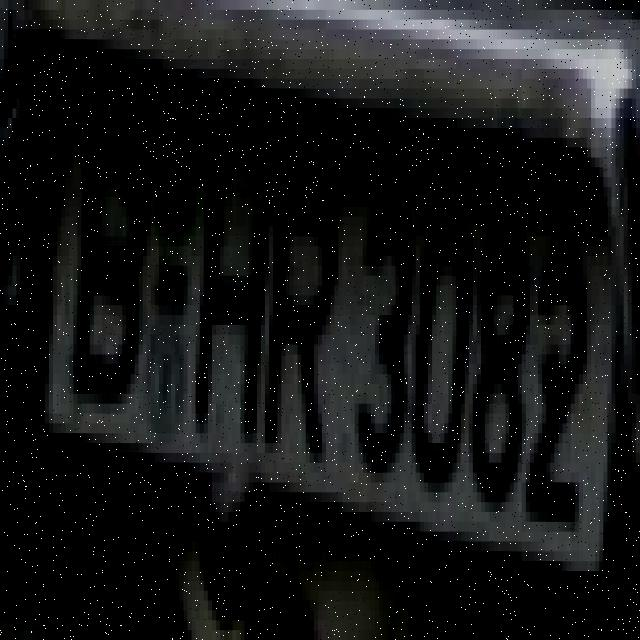licenseplate: (49, 40, 616, 588)
